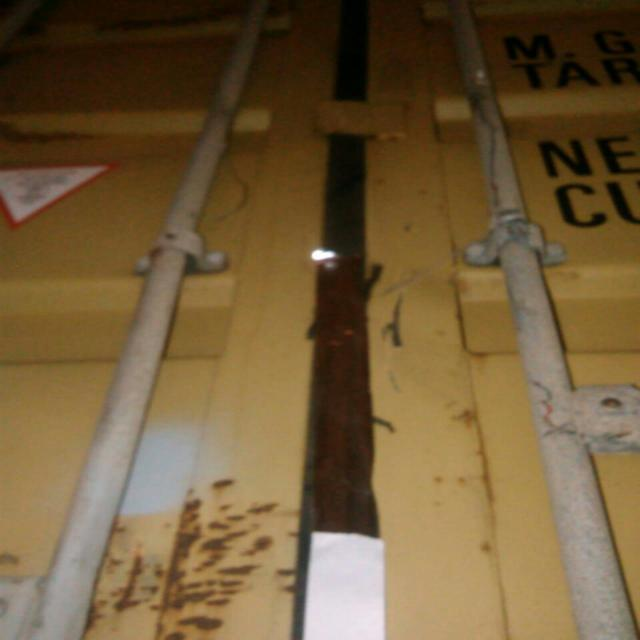rust: (86, 469, 305, 640)
